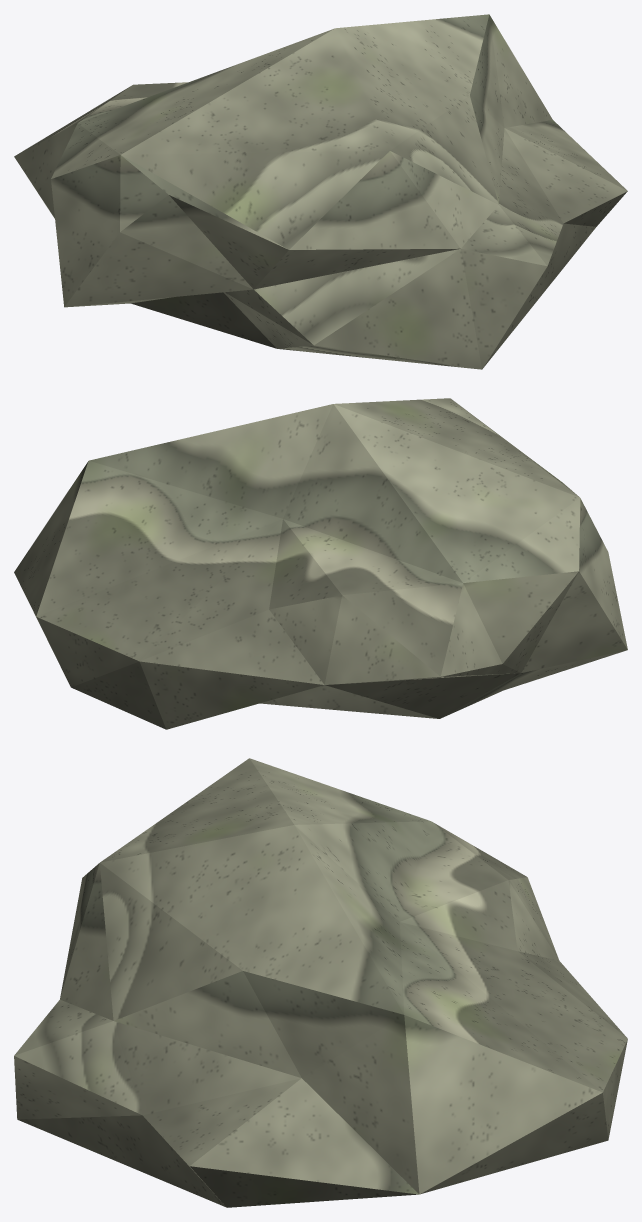
Rendered from slab_b.glb.
The picture shows the model from 3 angles, top to bottom: view 1: azimuth 30°, elevation 25°; view 2: azimuth 150°, elevation 25°; view 3: azimuth 270°, elevation 25°; orthographic projection. The views are drawn at different scales.
Parts seen in each view (by area): view 1: slab_b; view 2: slab_b; view 3: slab_b.
Boxes of the visible parts, x1,y1,x2,y2 form: slab_b: [14, 14, 627, 369]; slab_b: [14, 398, 627, 729]; slab_b: [14, 758, 627, 1207].
Bounding box in the file's own units: 1.37 × 0.6009 × 1.17.
Materials: 1 (1 with a texture image).
